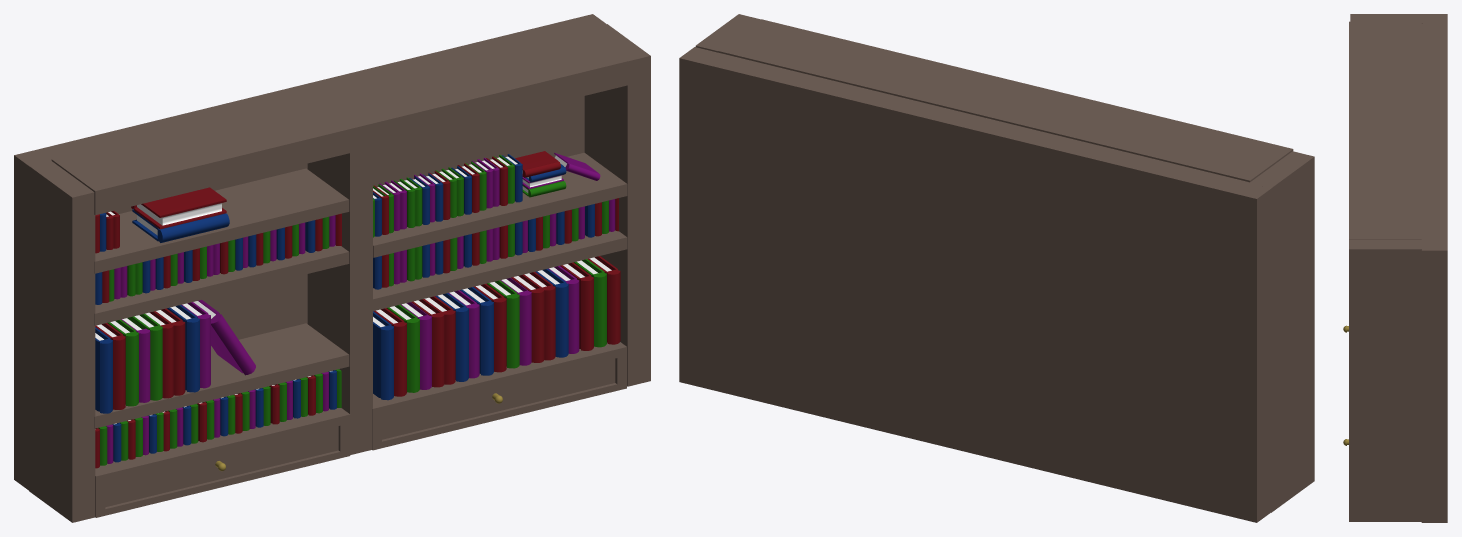
Rendered from Bookshelfwithbooks-fixed.fbx.
The picture shows the model from 3 angles, left to right: view 1: azimuth 30°, elevation 25°; view 2: azimuth 150°, elevation 25°; view 3: azimuth 270°, elevation 25°; orthographic projection. The views are drawn at different scales.
Visible parts, largest first — view 1: pCube270; view 2: pCube270; view 3: pCube270.
Boxes of the visible parts, x1,y1,x2,y2 form: pCube270: (14,14,650,522); pCube270: (679,14,1314,522); pCube270: (1343,14,1447,522).
Size of the model in its own units: 159 by 86.03 by 29.61.
